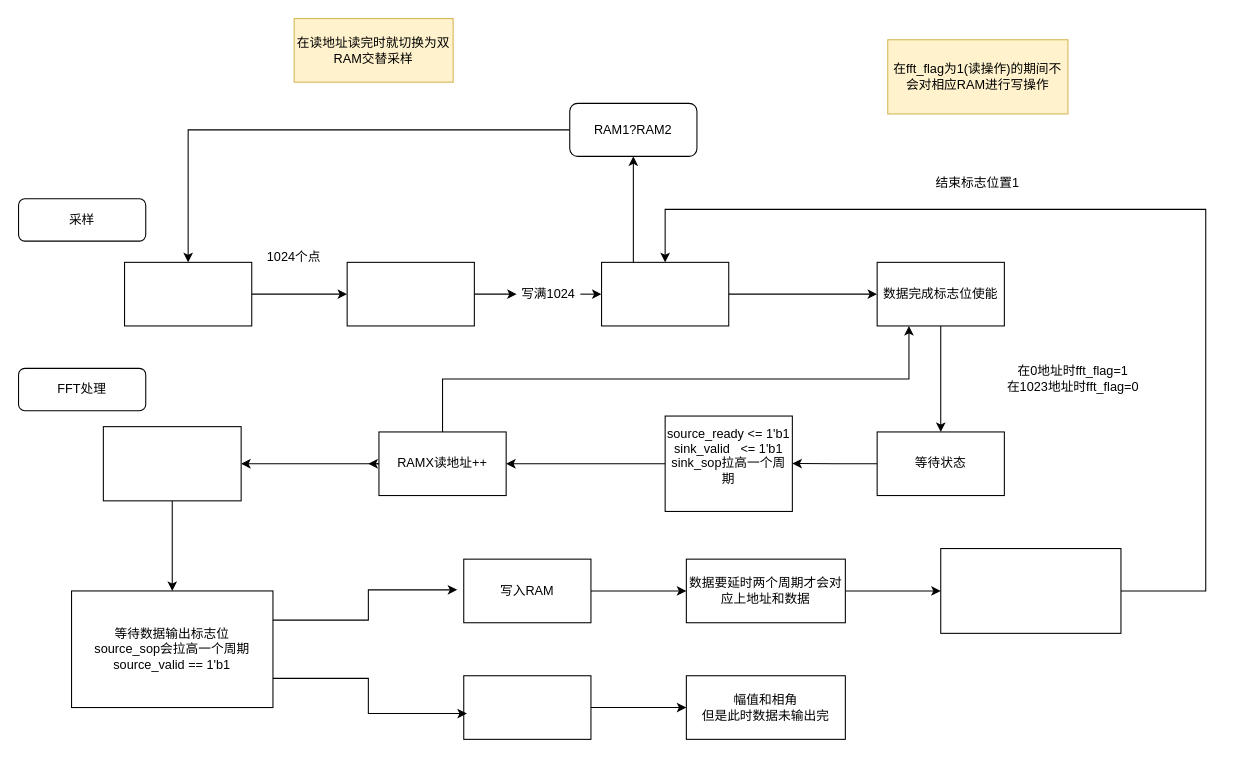
Image size: 1233x758. Some labels were removed from this diagram. Here are the shapes that lost their labels. From the top down, the centre of each, then its label:
the point at 187,293: 采样 1.024Mhz
the point at 410,293: RAMX写地址++
the point at 664,293: 等待FFT完成标志位
the point at 171,463: 数据结束 sink_valid <= 1'b0 sink_eop拉高一个周期
the point at 1030,590: source_eop_reg=1 source_valid_reg=1 最后一个数据
the point at 527,707: 数据处理
